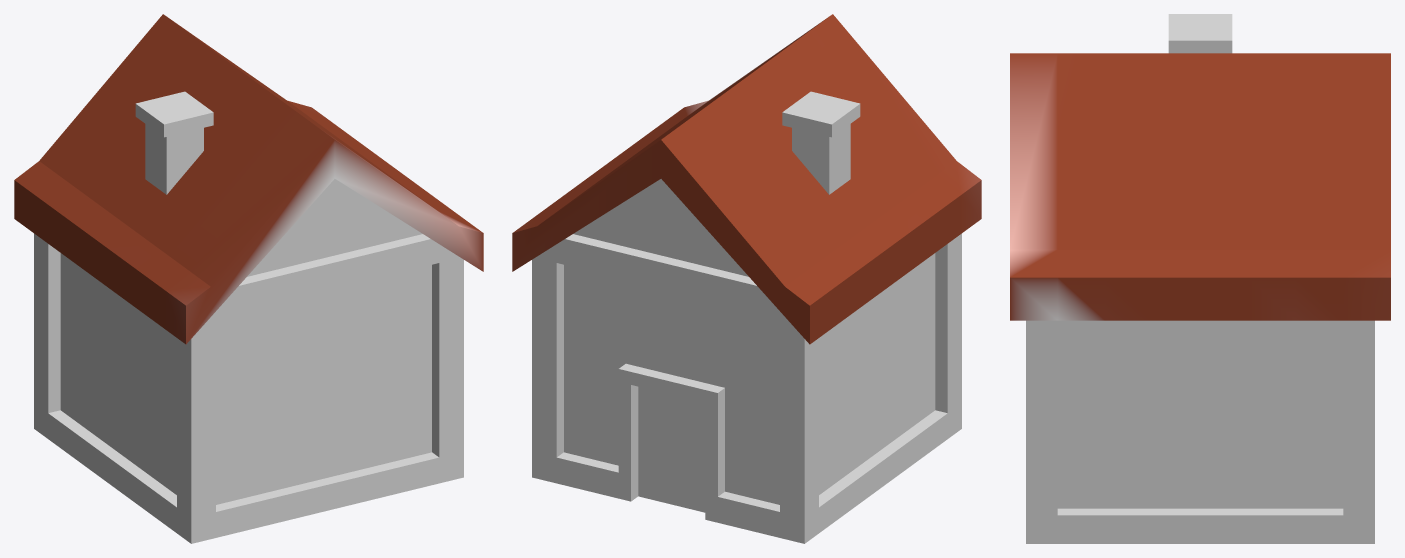
The model's file is msh_houseBasic.fbx.
The picture shows the model from 3 angles, left to right: view 1: azimuth 30°, elevation 25°; view 2: azimuth 150°, elevation 25°; view 3: azimuth 270°, elevation 25°; orthographic projection. The views are drawn at different scales.
Visible parts, largest first — view 1: Cube, Cube.001, Cube.002, Cube.004, Cube.009, Cube.003, Cube.008, Cube.011, Cube.013, Cube.014; view 2: Cube.001, Cube, Cube.011, Cube.019, Cube.010, Cube.007, Cube.008, Cube.002, Cube.013, Cube.014, Cube.015, Cube.017 (+3 smaller); view 3: Cube.001, Cube, Cube.012, Cube.009, Cube.010, Cube.014.
Part boxes in pixels (x1=…): Cube: x1=60, y1=179, x2=431, y2=504; Cube.001: x1=14, y1=14, x2=483, y2=344; Cube.002: x1=177, y1=312, x2=215, y2=543; Cube.004: x1=216, y1=452, x2=439, y2=537; Cube.009: x1=432, y1=244, x2=463, y2=483; Cube.003: x1=216, y1=234, x2=439, y2=317; Cube.008: x1=48, y1=410, x2=176, y2=532; Cube.011: x1=34, y1=233, x2=60, y2=438; Cube.013: x1=145, y1=124, x2=203, y2=194; Cube.014: x1=135, y1=91, x2=213, y2=137; Cube.001: x1=512, y1=14, x2=981, y2=344; Cube: x1=564, y1=179, x2=935, y2=504; Cube.011: x1=780, y1=312, x2=818, y2=543; Cube.019: x1=638, y1=386, x2=705, y2=512; Cube.010: x1=532, y1=244, x2=563, y2=483; Cube.007: x1=556, y1=234, x2=779, y2=317; Cube.008: x1=819, y1=410, x2=947, y2=532; Cube.002: x1=935, y1=233, x2=961, y2=438; Cube.013: x1=792, y1=124, x2=850, y2=194; Cube.014: x1=782, y1=91, x2=860, y2=137; Cube.015: x1=618, y1=382, x2=638, y2=501; Cube.017: x1=705, y1=401, x2=724, y2=522; Cube.001: x1=1010, y1=53, x2=1390, y2=320; Cube: x1=1057, y1=320, x2=1343, y2=508; Cube.012: x1=1057, y1=508, x2=1343, y2=543; Cube.009: x1=1026, y1=320, x2=1057, y2=543; Cube.010: x1=1343, y1=320, x2=1374, y2=543; Cube.014: x1=1168, y1=14, x2=1232, y2=53.
Size of the model in its own units: 240 by 290 by 240.
